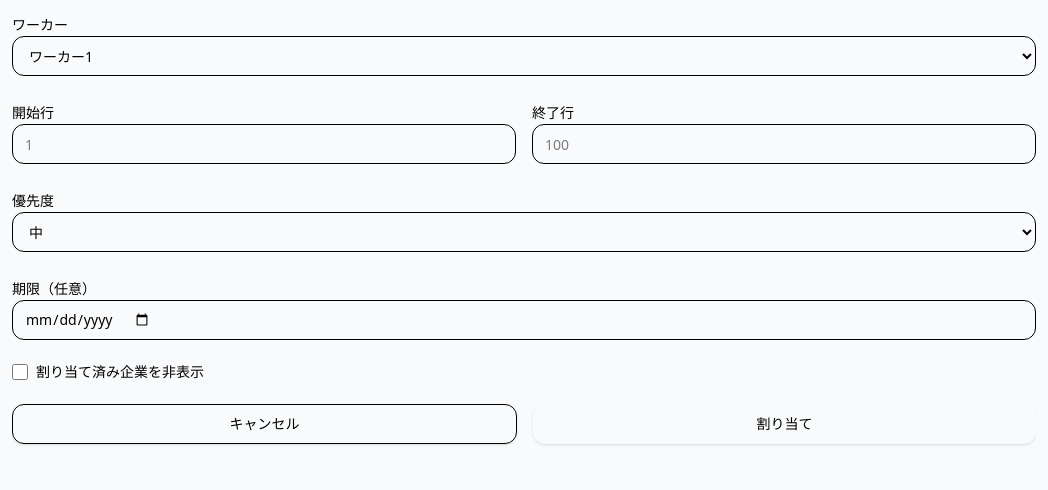
Test: WorkerAssignmentForm › バリデーション › 開始行が1未満の場合エラーが表示される
The width and height of the screenshot is (1048, 490).
Type "0" into the number field labelled "開始行".
click(264, 144); type("0")  # box [12,124,516,164]
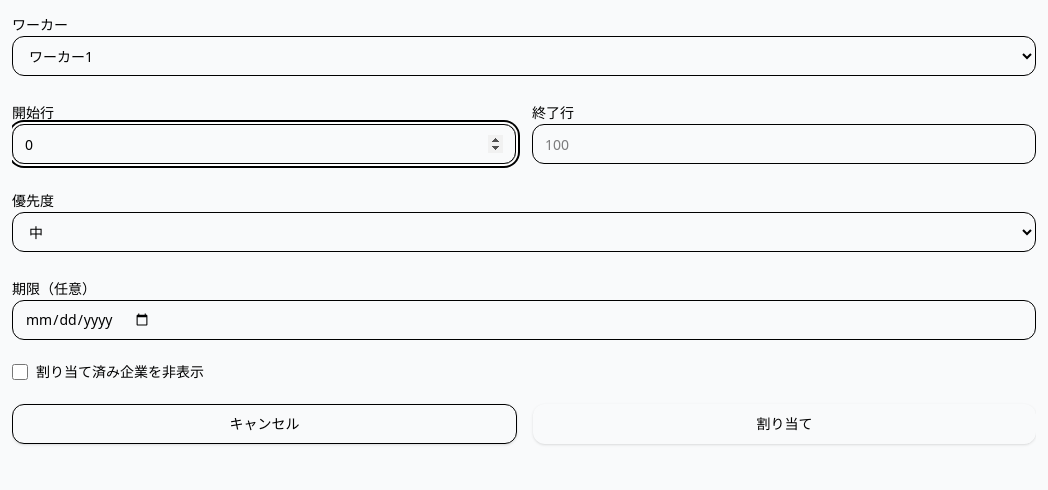
Click the button "割り当て".
click(784, 424)  # box [533,404,1036,444]
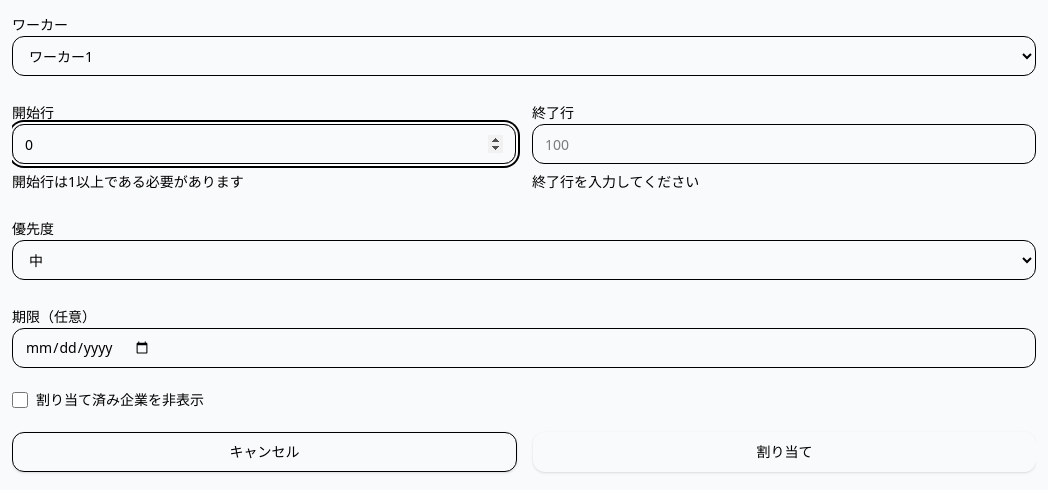
Result: the text "開始行は1以上である必要があります" is shown at [12,172,244,191]
